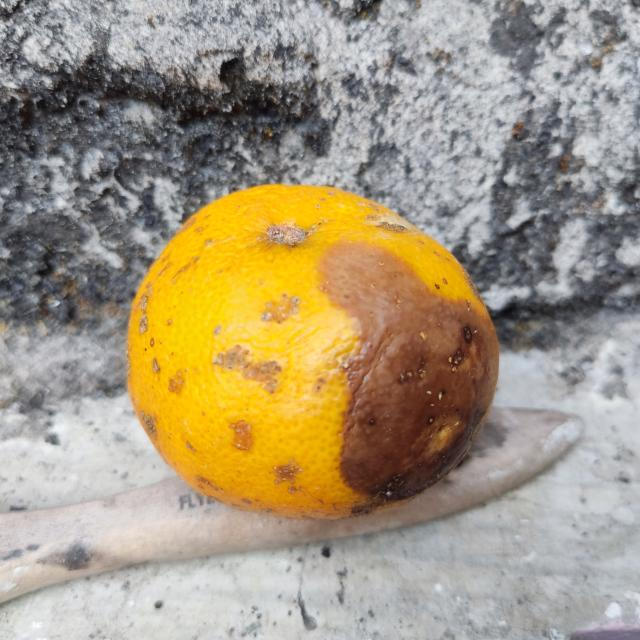orange: (122, 185, 499, 512)
